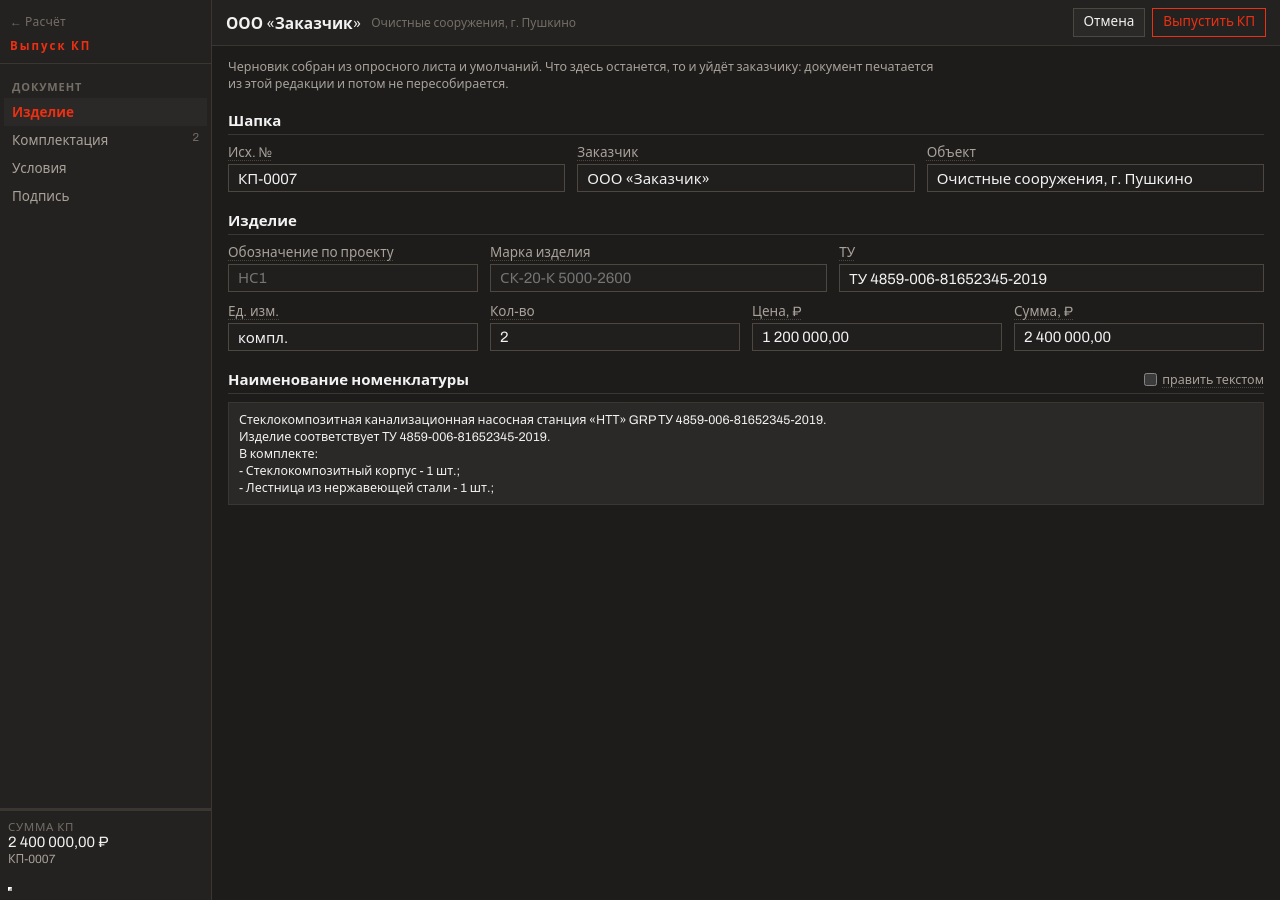
Test: экран выпуска КП › подставляет номер, условия и подпись из черновика
Expected: the field labelled "Исх. №" holds "КП-0007", [228,164,565,192]
Expected: the field labelled "Заказчик" holds "ООО «Заказчик»", [577,164,915,192]
Step 1. Click the button with class "nav-link" showing "Условия" → (106, 168), box [4,154,207,182]
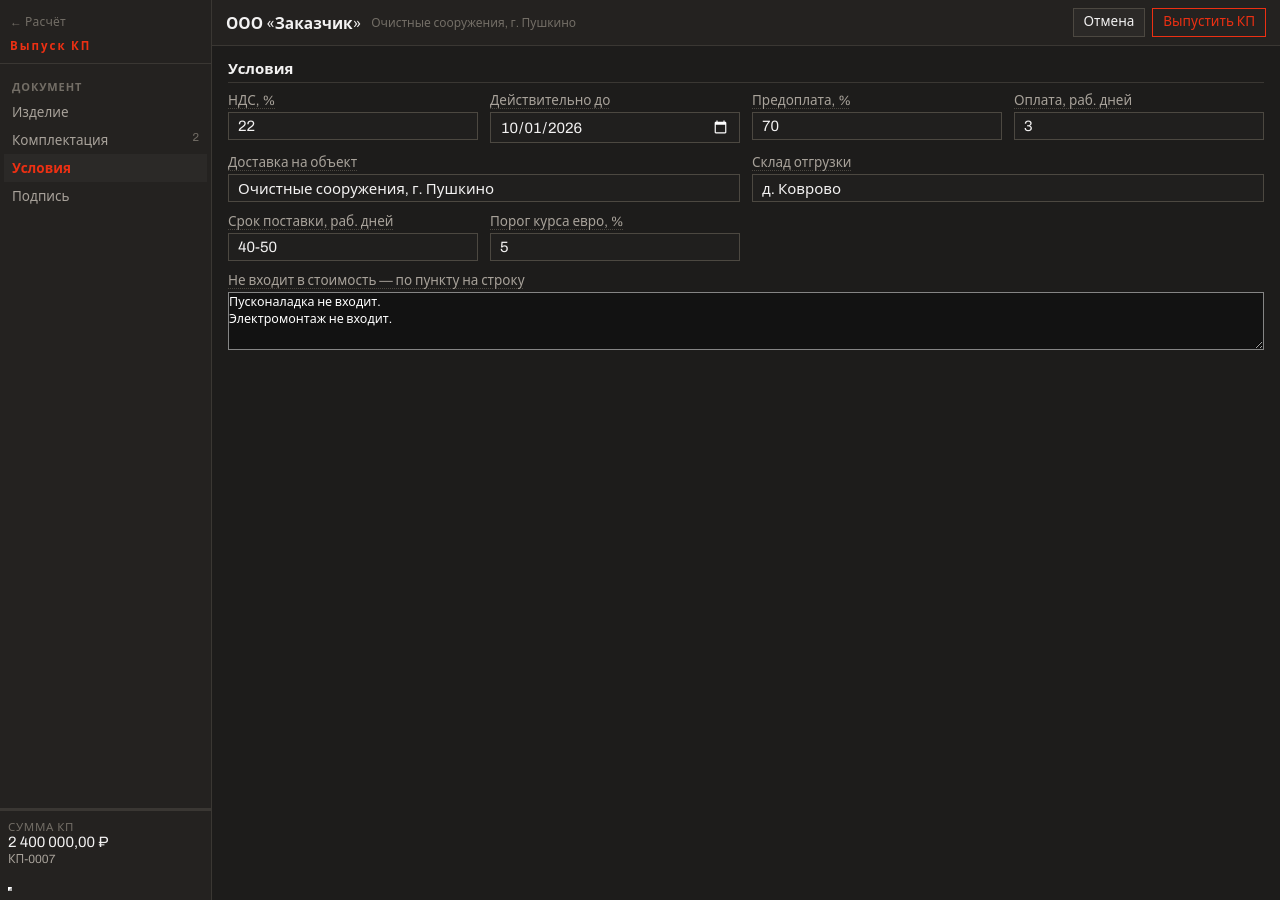
Result: the date field labelled "Действительно до" holds "2026-10-01" at [490,112,740,143]
